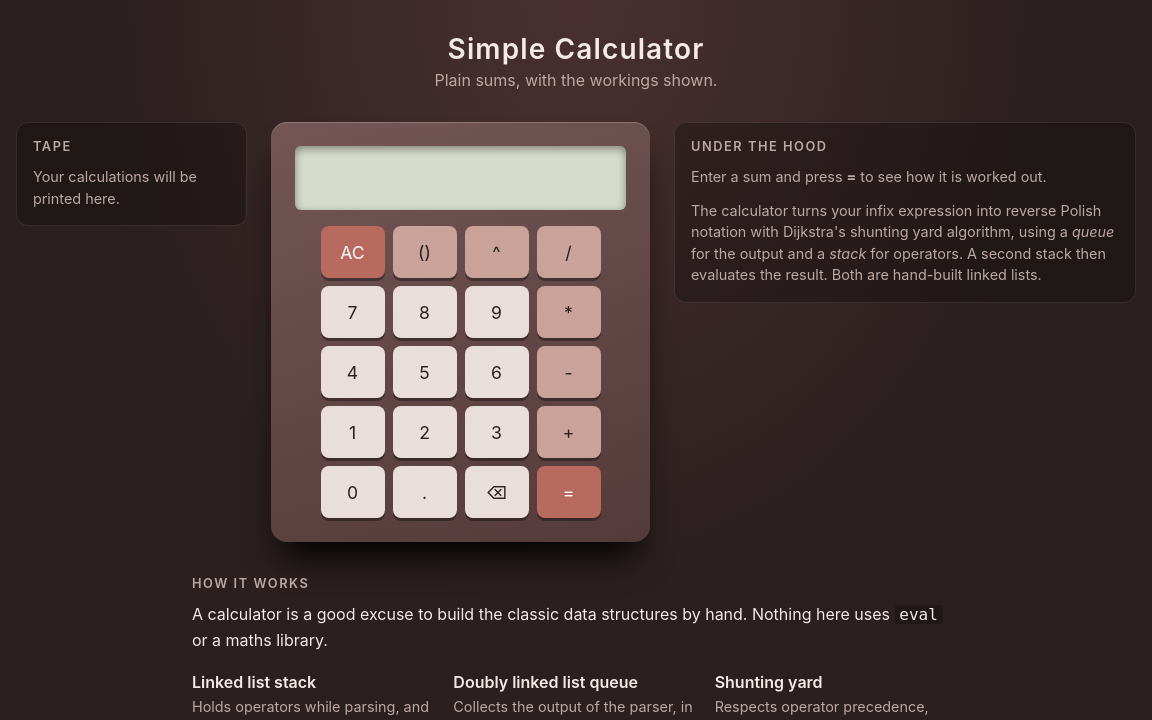
Test case: wraps the current expression in parentheses
The image size is (1152, 720).
Click the button "2". click: (424, 432)
box: 392,406 -> 456,458
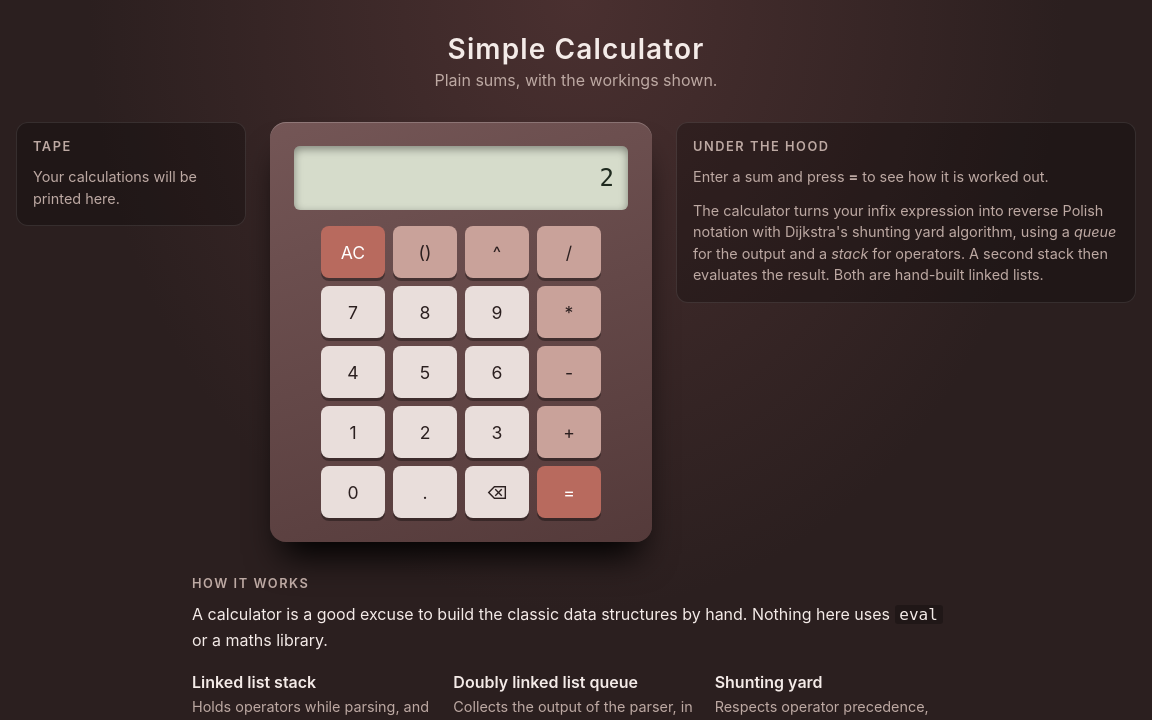
Click the button "+". click: (569, 432)
box: 537,406 -> 601,458
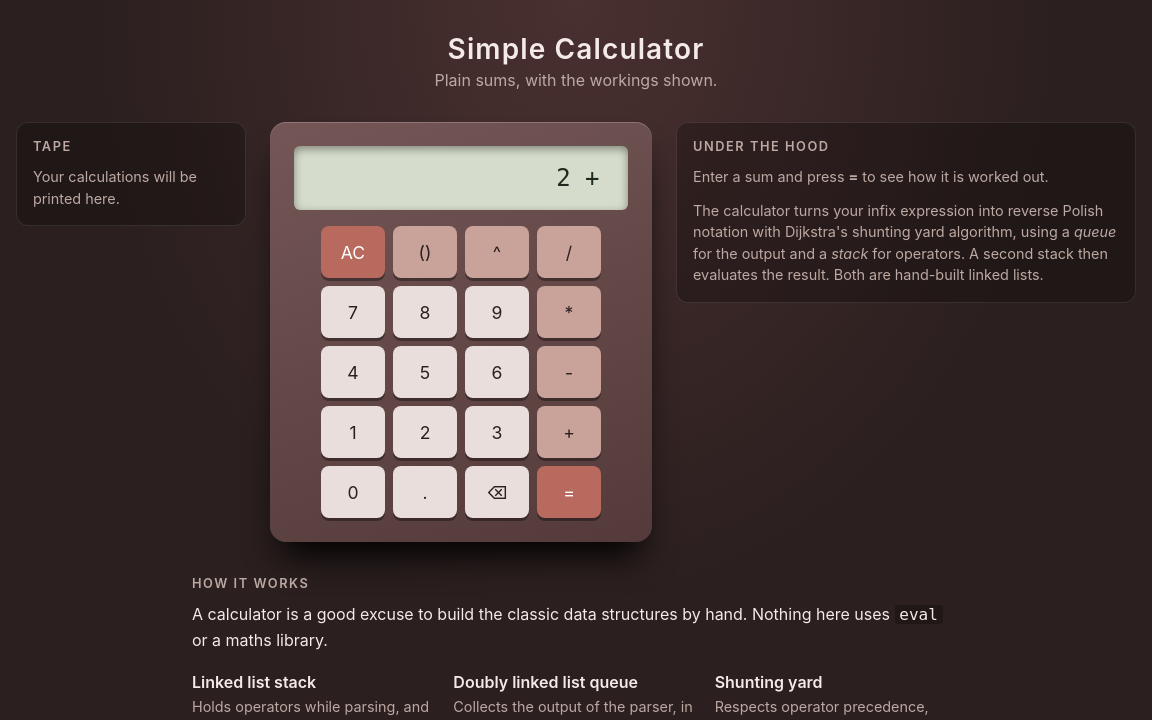
Click the button "3". click: (497, 432)
box: 465,406 -> 529,458
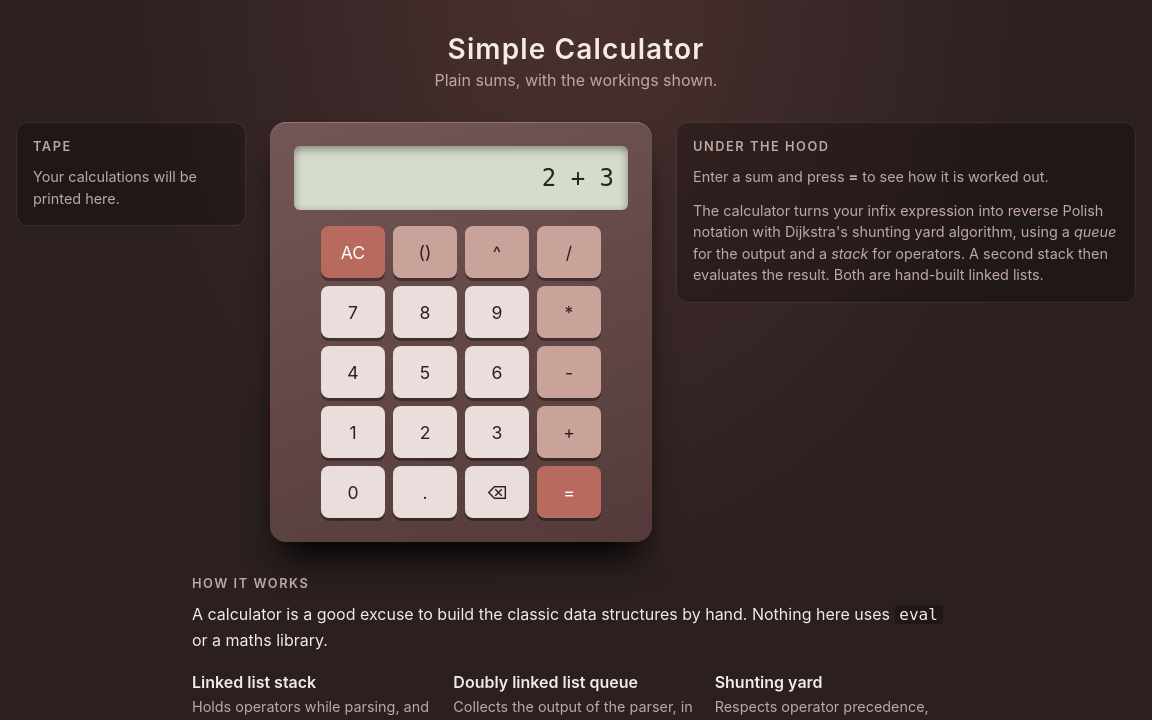
Click the button "()". click: (425, 252)
box: 393,226 -> 457,278
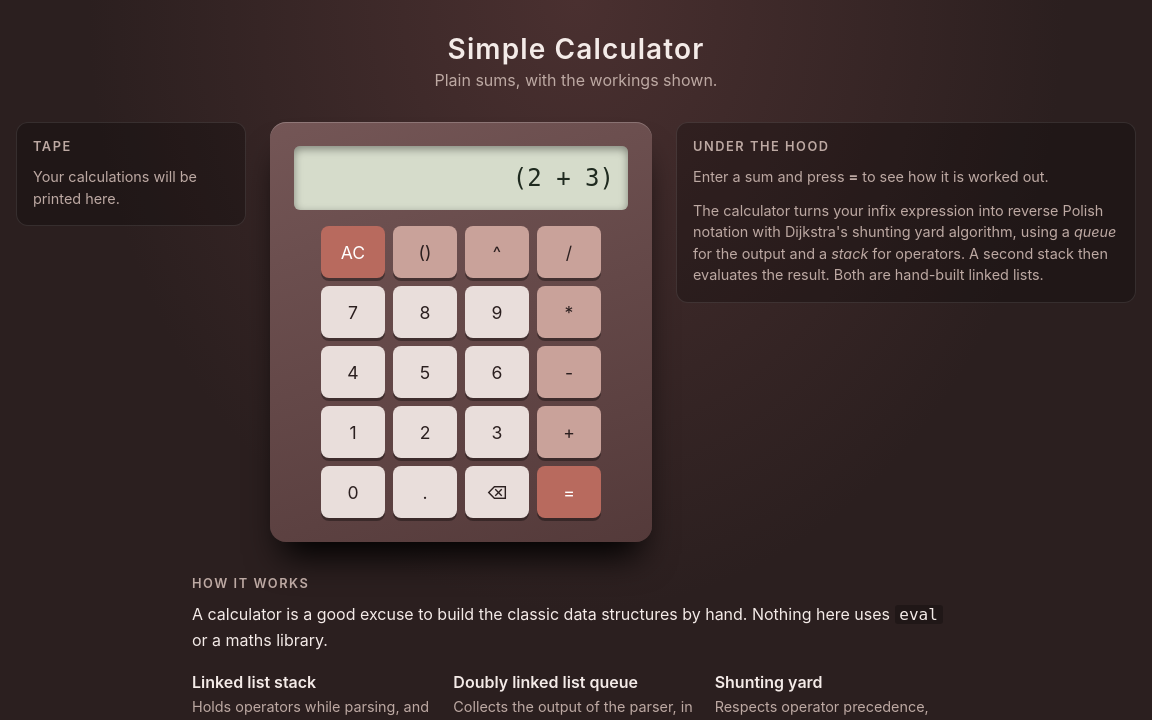
Now the field with id "display" holds "(2 + 3)", box 294,146 -> 628,210
